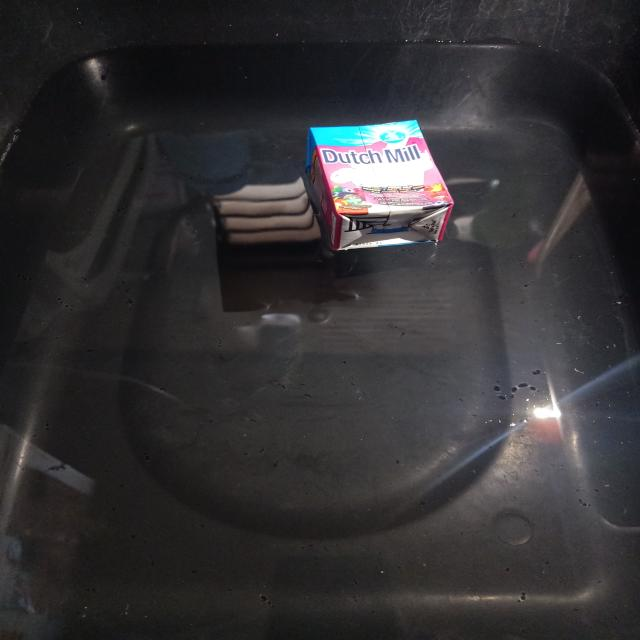Cardboard Box: (303, 120, 454, 253)
